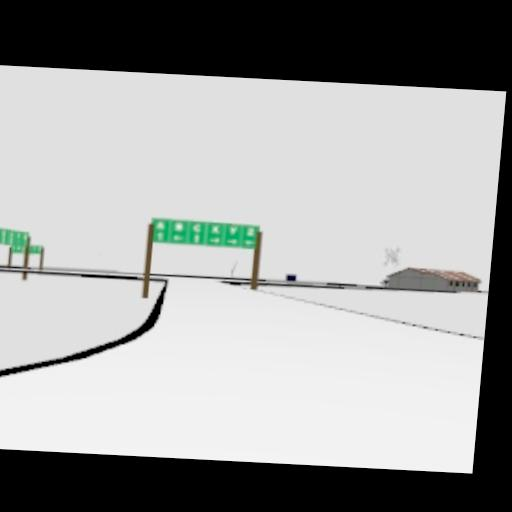A: (154, 219, 164, 229)
B: (173, 222, 183, 230)
C: (191, 223, 201, 233)
Left: (170, 232, 182, 242)
Right: (225, 237, 237, 245), (209, 236, 219, 242)
Straight: (8, 230, 20, 248), (1, 229, 11, 244), (6, 229, 16, 238), (155, 230, 163, 241), (192, 234, 200, 243)
X: (210, 224, 220, 234)
Y: (228, 225, 238, 235)
Z: (13, 230, 27, 248), (245, 226, 255, 236)
